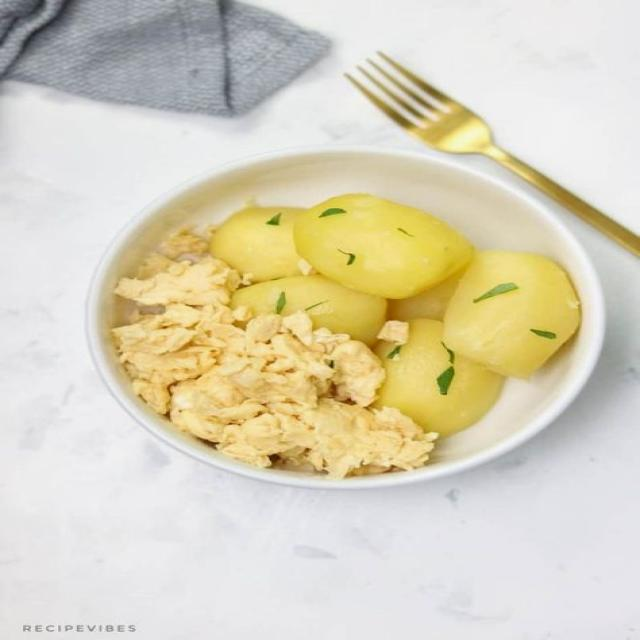kentang rebus: (294, 194, 471, 301), (442, 249, 582, 381), (379, 318, 508, 438), (242, 276, 389, 342), (211, 208, 306, 284)
